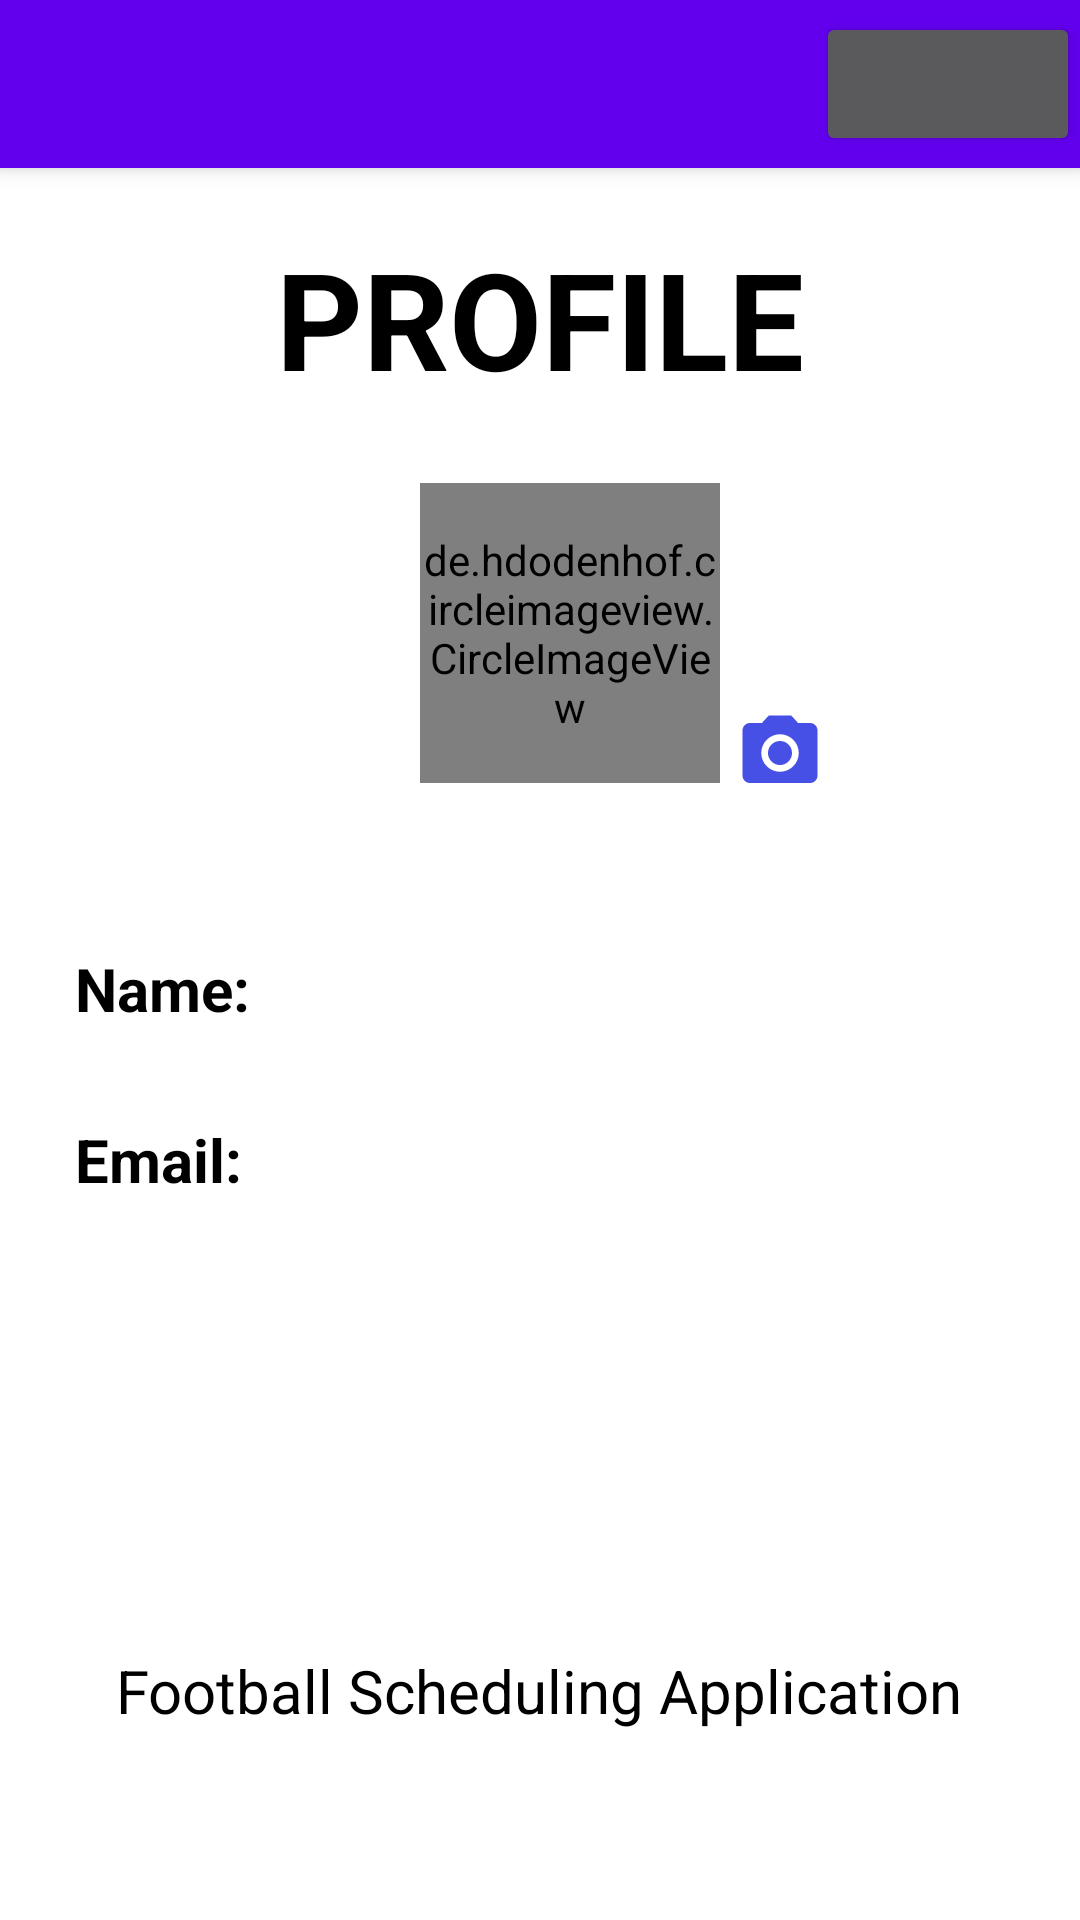

Icons on this 1080*1920 Android screen, each with the point to tap as [x,y]:
photo camera: [780,749]
